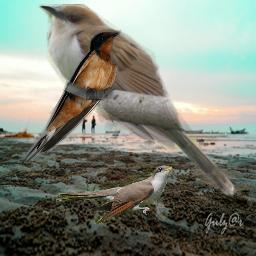Cuckoo: (38, 4, 237, 197), (56, 165, 172, 224)
Swallow: (19, 28, 123, 163)
